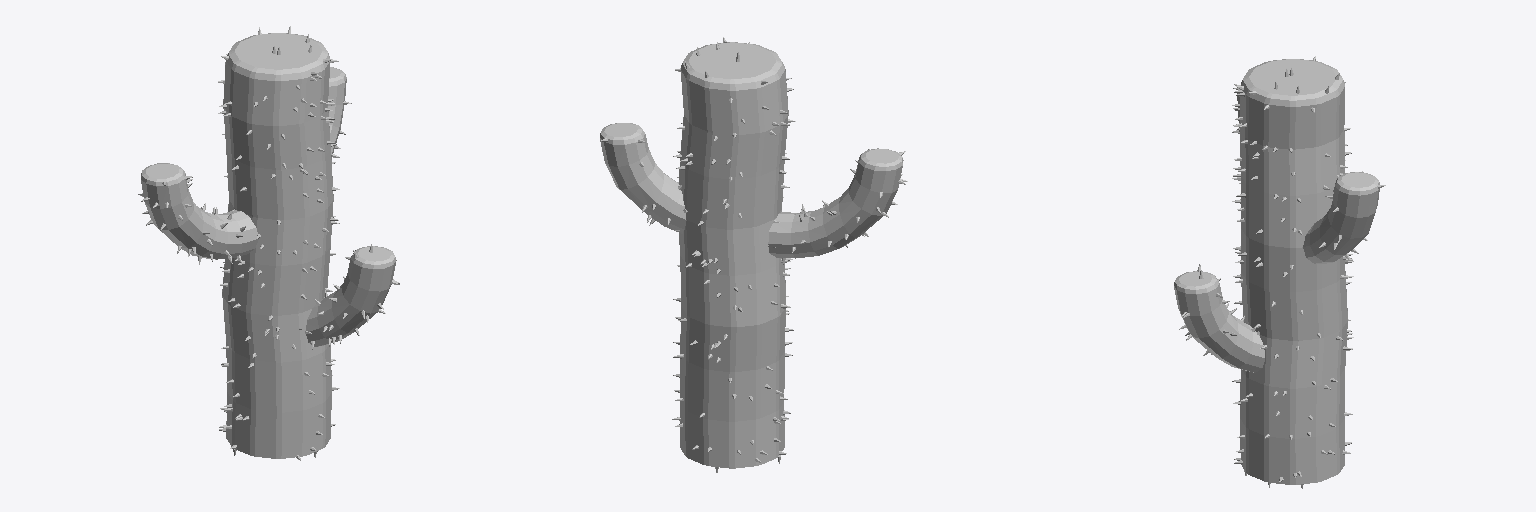
The model's file is cactus_big_3.obj.
3 renders of one model, left to right at view 1: azimuth 30°, elevation 25°; view 2: azimuth 150°, elevation 25°; view 3: azimuth 270°, elevation 25°, orthographic.
Parts seen in each view (by area): view 1: cactus_big_3; view 2: cactus_big_3; view 3: cactus_big_3.
Boxes of the visible parts, box(x1,y1,x2,y2) form: cactus_big_3: box(138, 26, 399, 460); cactus_big_3: box(600, 37, 907, 472); cactus_big_3: box(1174, 56, 1385, 488).
Size of the model in its own units: 3.85 by 5.82 by 2.8.